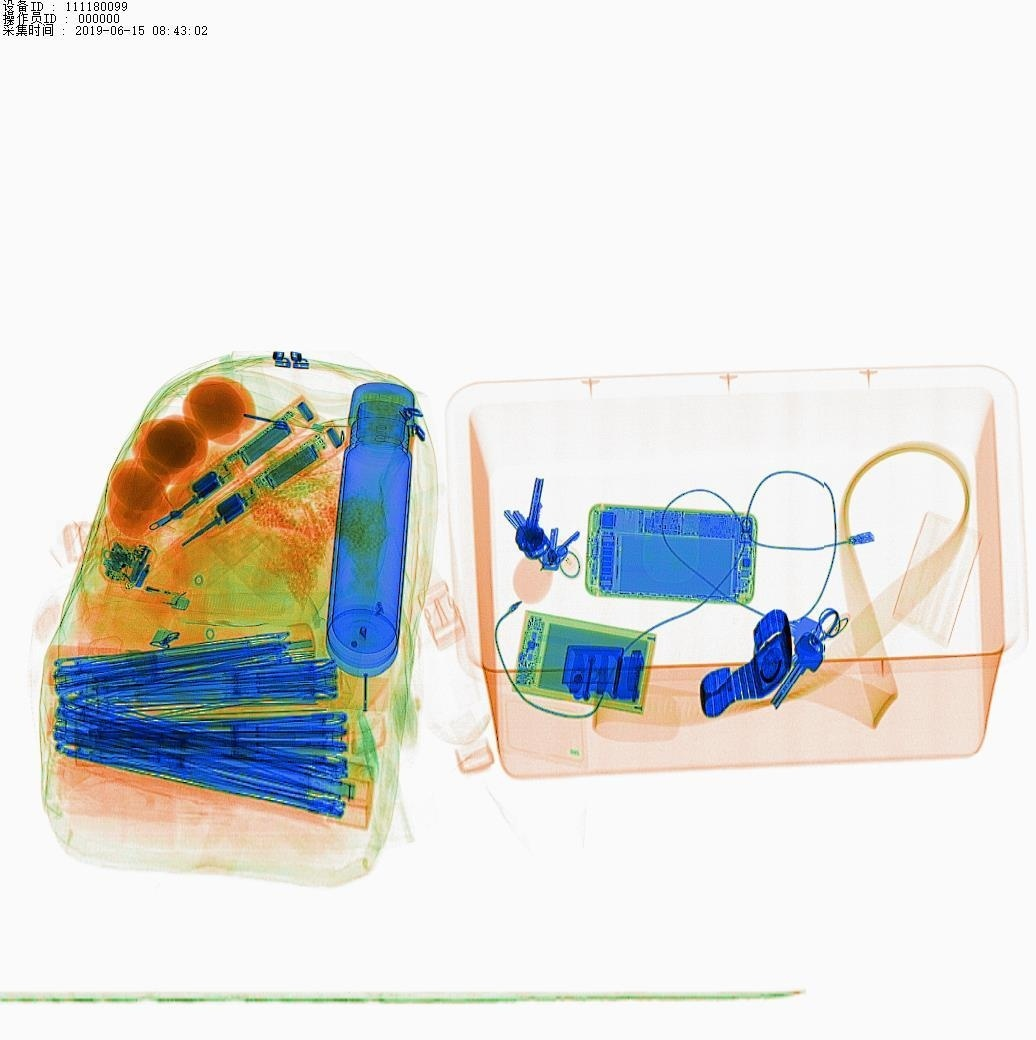NonmetallicFire: (105, 579, 196, 617)
